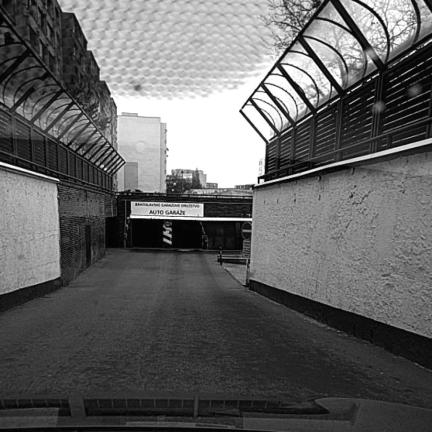Road: (0, 250, 431, 408)
